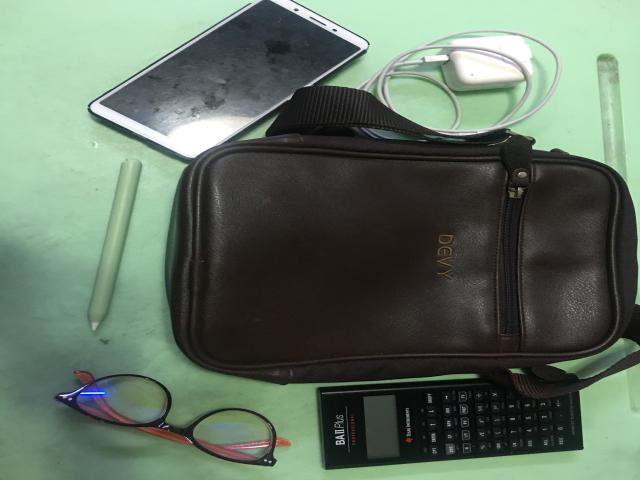Glasses: (55, 374, 278, 466)
Mobile phone: (88, 0, 368, 158)
wire: (352, 30, 560, 141)
